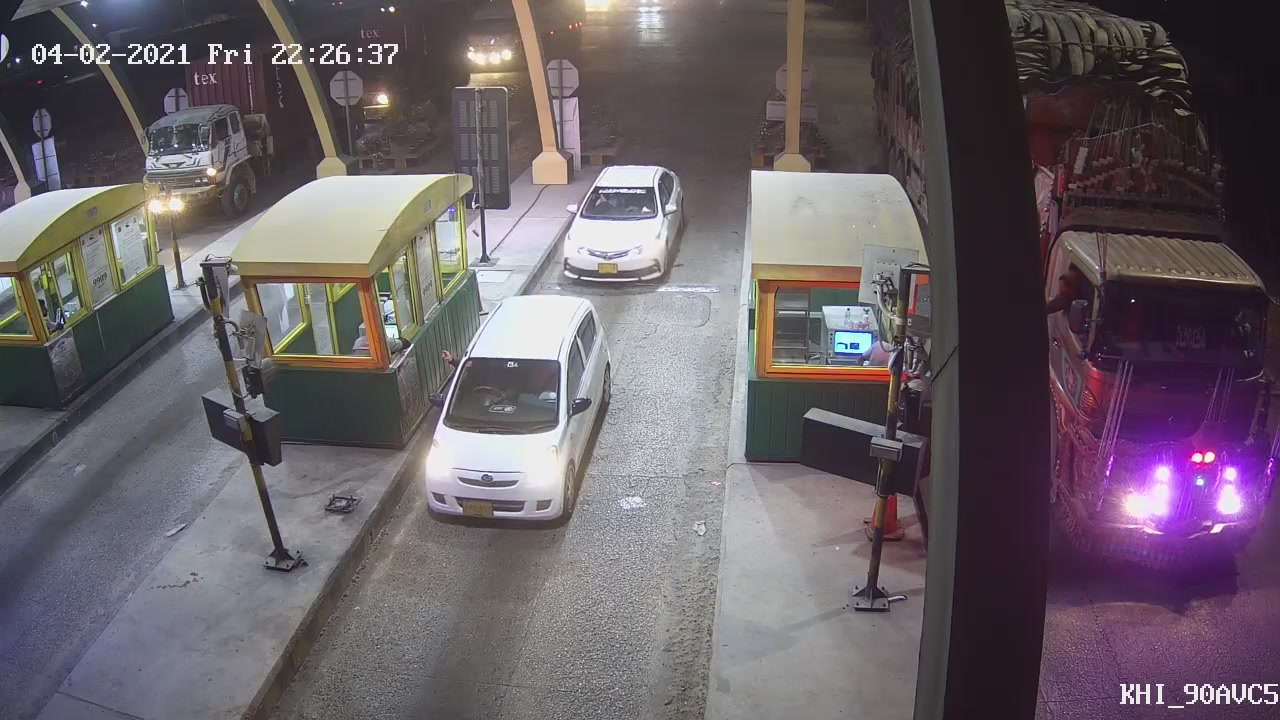F1: (420, 293, 615, 535), (559, 163, 685, 284)
